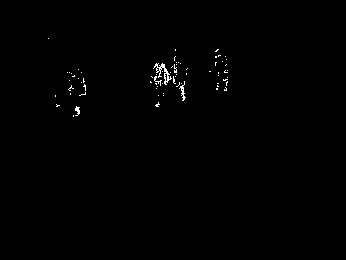person: (145, 62, 173, 107), (64, 70, 90, 117), (169, 50, 190, 102), (210, 49, 232, 93)
